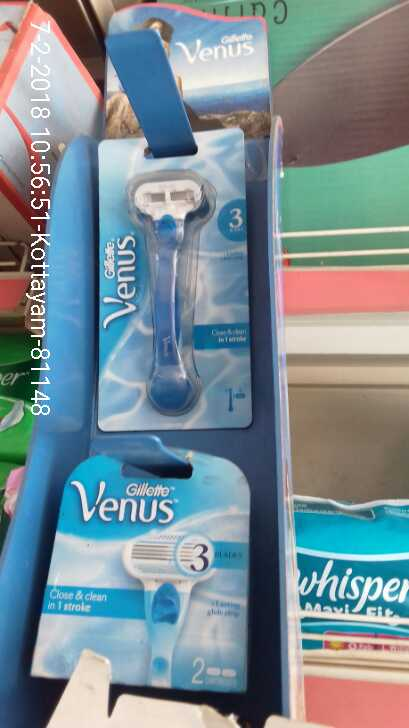beauty: (39, 440, 253, 704), (100, 138, 253, 432)
